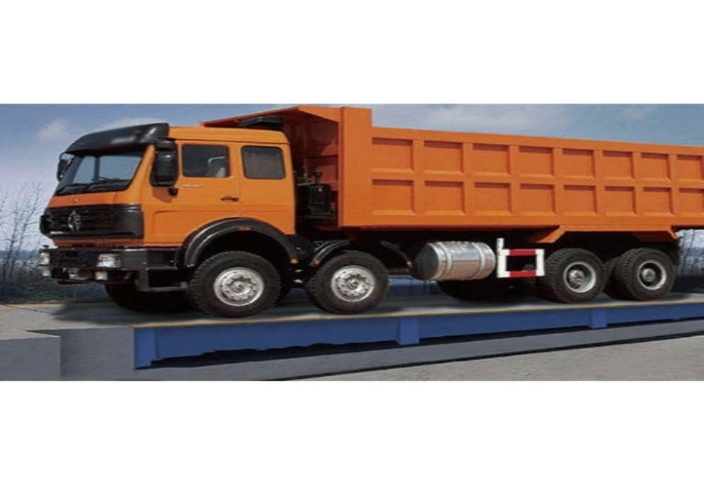industrial: (19, 126, 704, 305)
